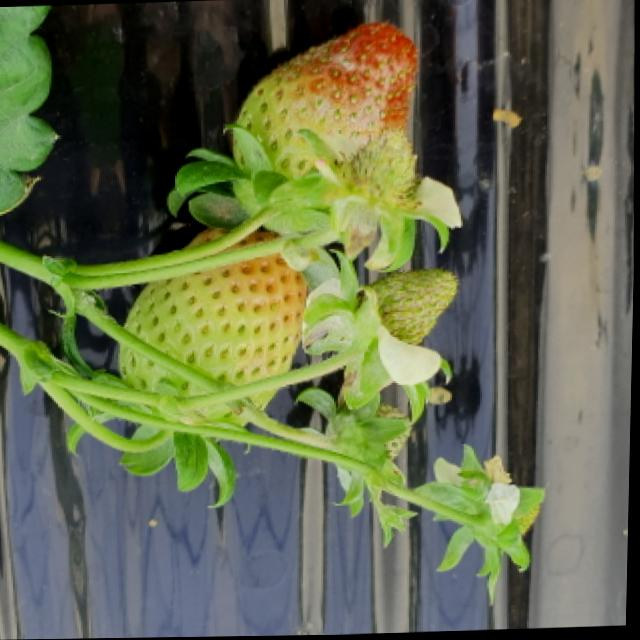Powdery Mildew Fruit: (282, 19, 422, 142)
